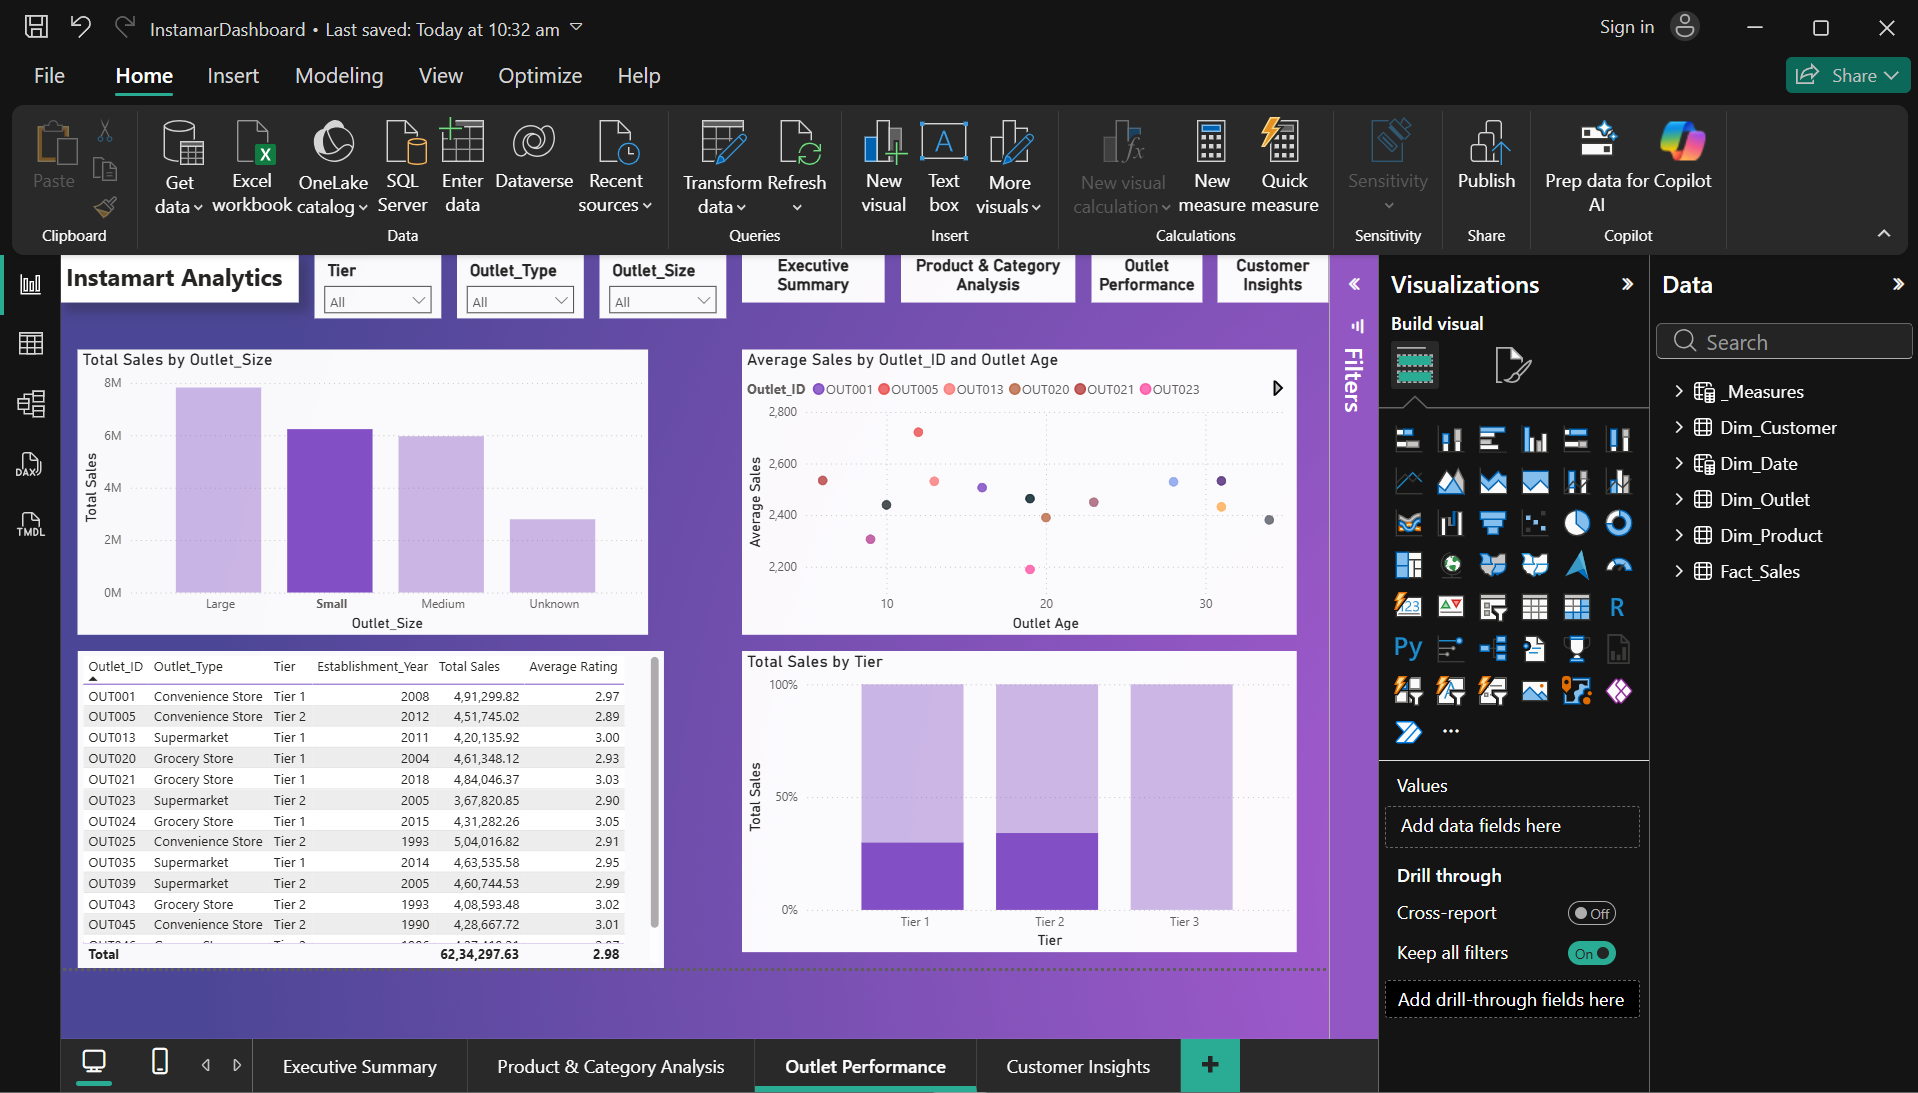

The page's visual inventory and layout, read from the dashboard file:
{"tool":"powerbi","page":{"name":"Outlet Performance","canvas":[1280,720],"ordinal":2},"visuals":[{"type":"textbox","box":[0,0,240,48],"z":0},{"type":"slicer","fields":{"Values":["Dim_Outlet.Tier"]},"box":[256,0,128,64],"z":1000},{"type":"slicer","fields":{"Values":["Dim_Outlet.Outlet_Type"]},"box":[400,0,128,64],"z":2000},{"type":"slicer","fields":{"Values":["Dim_Outlet.Outlet_Size"]},"box":[544,0,128,64],"z":3000},{"type":"actionButton","title":"Executive Summary","box":[688,0,144,48],"z":4000},{"type":"actionButton","title":"Product & Category Analysis","box":[848,0,176,48],"z":5000},{"type":"actionButton","title":"Outlet Performance","box":[1040,0,112,48],"z":6000},{"type":"clusteredColumnChart","fields":{"Category":["Dim_Outlet.Outlet_Size"],"Y":["_Measures.Total Sales"]},"box":[16,96,576,288],"z":7000},{"type":"scatterChart","fields":{"X":["Dim_Outlet.Outlet Age"],"Y":["_Measures.Average Sales"],"Series":["Fact_Sales.Outlet_ID"]},"box":[688,96,560,288],"z":8000},{"type":"tableEx","fields":{"Values":["Dim_Outlet.Outlet_ID","Dim_Outlet.Outlet_Type","Dim_Outlet.Tier","Dim_Outlet.Establishment_Year","_Measures.Total Sales","_Measures.Average Rating"]},"box":[16,400,592,320],"z":9000},{"type":"hundredPercentStackedColumnChart","fields":{"Category":["Dim_Outlet.Tier"],"Y":["_Measures.Total Sales"]},"box":[688,400,560,304],"z":10000},{"type":"actionButton","title":"Customer Insights ","box":[1168,0,112,48],"z":11000}]}

Visuals, with their boxes on the page's 1280x720 design canvas (x1, y1, x2, y2). These are canvas units, not pixel positions in the 1918x1093 screenshot, which may show the page scaled, cropped or inside an application window:
textbox: (left=0, top=0, right=240, bottom=48)
slicer - Dim_Outlet.Tier: (left=256, top=0, right=384, bottom=64)
slicer - Dim_Outlet.Outlet_Type: (left=400, top=0, right=528, bottom=64)
slicer - Dim_Outlet.Outlet_Size: (left=544, top=0, right=672, bottom=64)
"Executive Summary" actionButton: (left=688, top=0, right=832, bottom=48)
"Product & Category Analysis" actionButton: (left=848, top=0, right=1024, bottom=48)
"Outlet Performance" actionButton: (left=1040, top=0, right=1152, bottom=48)
clusteredColumnChart - Dim_Outlet.Outlet_Size x _Measures.Total Sales: (left=16, top=96, right=592, bottom=384)
scatterChart - Dim_Outlet.Outlet Age x _Measures.Average Sales: (left=688, top=96, right=1248, bottom=384)
tableEx - Dim_Outlet.Outlet_ID x Dim_Outlet.Outlet_Type: (left=16, top=400, right=608, bottom=720)
hundredPercentStackedColumnChart - Dim_Outlet.Tier x _Measures.Total Sales: (left=688, top=400, right=1248, bottom=704)
"Customer Insights " actionButton: (left=1168, top=0, right=1280, bottom=48)
